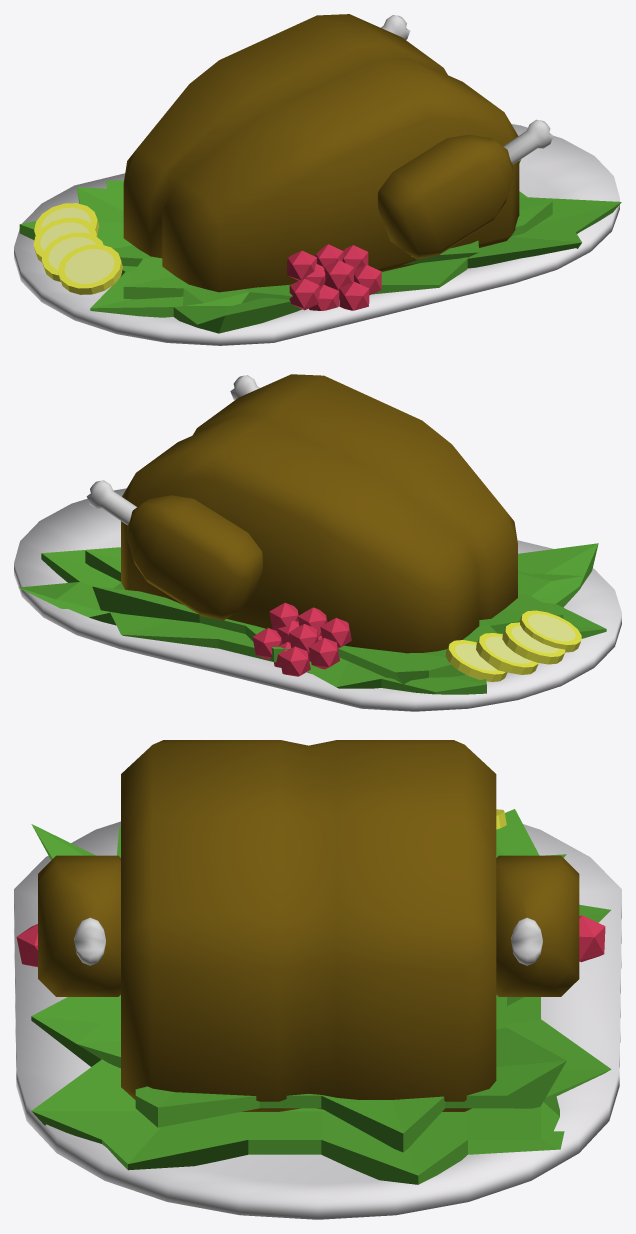
File: turkeyPlatter.fbx
3 views of the same model, one above another, from view 1: azimuth 30°, elevation 25°; view 2: azimuth 150°, elevation 25°; view 3: azimuth 270°, elevation 25° (orthographic). The views are drawn at different scales.
Parts seen in each view (by area): view 1: Turkey Platter; view 2: Turkey Platter; view 3: Turkey Platter.
Part boxes in pixels (box(x1,y1,x2,y2)): Turkey Platter: box(14, 14, 621, 345); Turkey Platter: box(14, 374, 621, 711); Turkey Platter: box(14, 740, 621, 1219).
Size of the model in its own units: 35.7 by 22.3 by 11.73.
